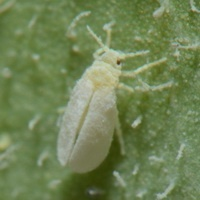insect: (57, 25, 147, 172)
